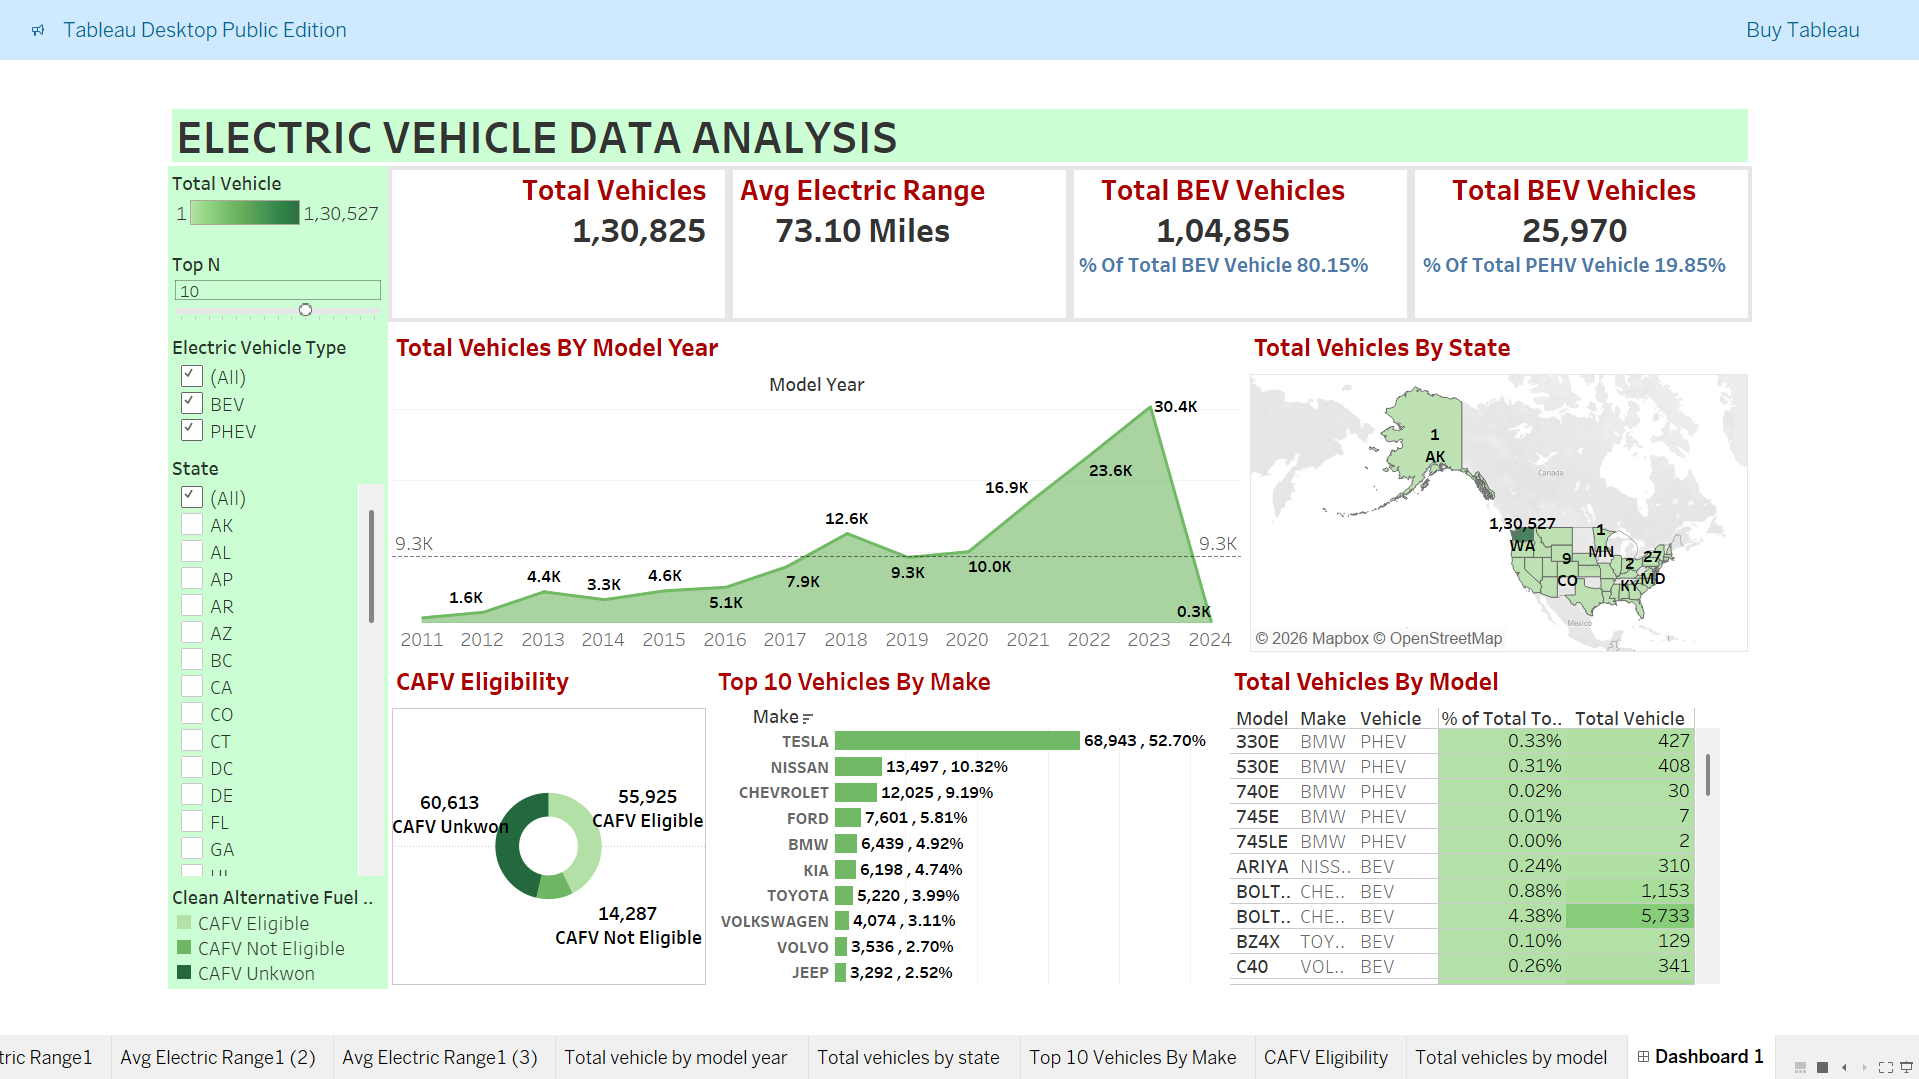

Layout of this report page (visuals, bound fields, positions):
{"tool":"tableau","page":{"name":"Dashboard 1","canvas":[1600,900],"ordinal":0},"visuals":[{"type":"title","box":[8,8,1584,61]},{"type":"legend","title":"Total vehicles by state","param":"[federated.01p4jj10eulp4x164by0s14nyqsj].[usr:Calculation_1957658531557568512:qk","box":[8,69,220,81]},{"type":"worksheet","title":"TOtal vehicles","mark":"Automatic","box":[228,69,341,156]},{"type":"worksheet","title":"Avg Electric Range1","mark":"Automatic","box":[569,69,341,156]},{"type":"worksheet","title":"Avg Electric Range1 (2)","mark":"Automatic","box":[910,69,341,156]},{"type":"worksheet","title":"Avg Electric Range1 (3)","mark":"Automatic","box":[1251,69,341,156]},{"type":"parameter","param":"[Parameters].[Parameter 1]","box":[8,150,220,83]},{"type":"worksheet","title":"Total vehicle by model year","mark":"Area","rows":["Calculation_1957658531557568512","Calculation_1957658531557568512"],"cols":["Model Year"],"box":[228,225,858,333.5]},{"type":"worksheet","title":"Total vehicles by state","mark":"Automatic","box":[1086,225,506,333.5]},{"type":"filter","title":"Top 10 Vehicles By Make","param":"[federated.01p4jj10eulp4x164by0s14nyqsj].[none:Electric Vehicle Type:nk]","box":[8,233,220,121]},{"type":"filter","title":"Top 10 Vehicles By Make","param":"[federated.01p4jj10eulp4x164by0s14nyqsj].[none:State:nk]","box":[8,354,220,429]},{"type":"worksheet","title":"CAFV Eligibility","mark":"Pie","rows":["Calculation_1957658531575734279","Calculation_1957658531575734279"],"box":[228,558.5,322,333.5]},{"type":"worksheet","title":"Top 10 Vehicles By Make","mark":"Automatic","rows":["Make"],"cols":["Calculation_1957658531557568512"],"box":[550,558.5,516,333.5]},{"type":"worksheet","title":"Total vehicles by model","mark":"Square","rows":["Model","Make","Electric Vehicle Type"],"box":[1066,558.5,526,333.5]},{"type":"legend","title":"CAFV Eligibility","param":"[federated.01p4jj10eulp4x164by0s14nyqsj].[none:Clean Alternative Fuel Vehicle (C","box":[8,783,220,109]}]}

Visuals, with their boxes on the page's 1600x900 design canvas (x1, y1, x2, y2). These are canvas units, not pixel positions in the 1919x1079 screenshot, which may show the page scaled, cropped or inside an application window:
title: {"left": 8, "top": 8, "right": 1592, "bottom": 69}
"Total vehicles by state" legend: {"left": 8, "top": 69, "right": 228, "bottom": 150}
"TOtal vehicles" worksheet: {"left": 228, "top": 69, "right": 569, "bottom": 225}
"Avg Electric Range1" worksheet: {"left": 569, "top": 69, "right": 910, "bottom": 225}
"Avg Electric Range1 (2)" worksheet: {"left": 910, "top": 69, "right": 1251, "bottom": 225}
"Avg Electric Range1 (3)" worksheet: {"left": 1251, "top": 69, "right": 1592, "bottom": 225}
parameter: {"left": 8, "top": 150, "right": 228, "bottom": 233}
"Total vehicle by model year" worksheet (Area marks): {"left": 228, "top": 225, "right": 1086, "bottom": 558}
"Total vehicles by state" worksheet: {"left": 1086, "top": 225, "right": 1592, "bottom": 558}
"Top 10 Vehicles By Make" filter: {"left": 8, "top": 233, "right": 228, "bottom": 354}
"Top 10 Vehicles By Make" filter: {"left": 8, "top": 354, "right": 228, "bottom": 783}
"CAFV Eligibility" worksheet (Pie marks): {"left": 228, "top": 558, "right": 550, "bottom": 892}
"Top 10 Vehicles By Make" worksheet: {"left": 550, "top": 558, "right": 1066, "bottom": 892}
"Total vehicles by model" worksheet (Square marks): {"left": 1066, "top": 558, "right": 1592, "bottom": 892}
"CAFV Eligibility" legend: {"left": 8, "top": 783, "right": 228, "bottom": 892}
